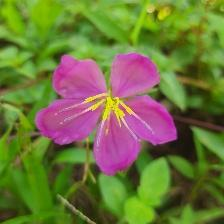malabar melastome: (36, 53, 180, 177)
